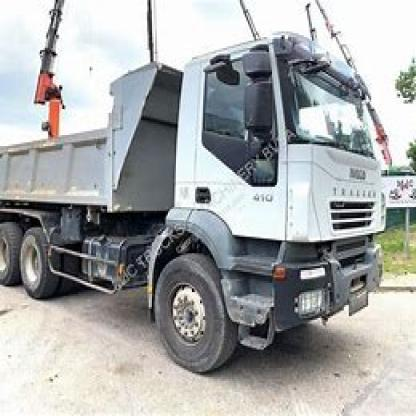dump_truck: (11, 30, 405, 372)
